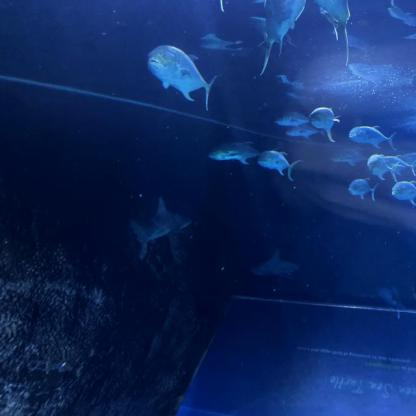fish: (247, 0, 307, 75), (148, 46, 218, 110), (311, 0, 350, 69), (209, 141, 282, 165), (257, 151, 303, 181), (349, 126, 398, 150), (310, 107, 340, 142), (367, 154, 399, 183), (348, 178, 379, 201), (383, 154, 415, 176), (285, 124, 327, 140), (329, 149, 368, 166), (391, 181, 415, 207), (274, 111, 310, 126)
shark: (129, 196, 192, 260), (250, 248, 298, 281)
